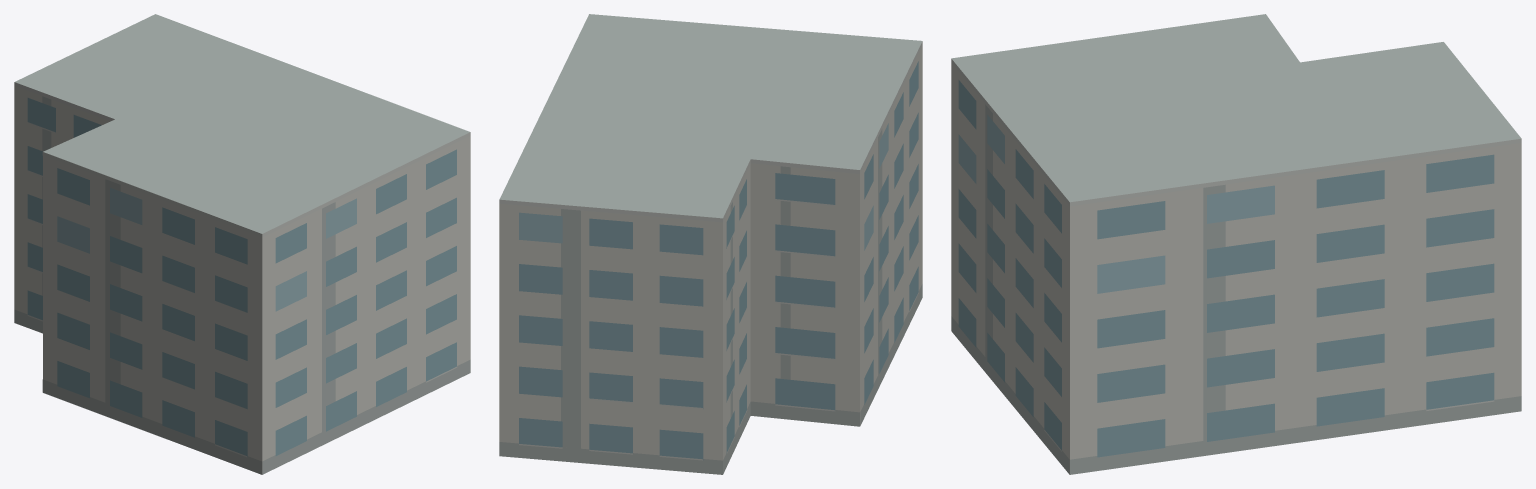
Rendered from residential-edab27d5-b1ec-4b5b-a345-5477279e3312.glb.
3 renders of one model, left to right at view 1: azimuth 30°, elevation 25°; view 2: azimuth 150°, elevation 25°; view 3: azimuth 270°, elevation 25°, orthographic. The views are drawn at different scales.
Visible parts, largest first — view 1: residential-edab27d5-b1ec-4b5b-a345-5477279e3312.tmp; view 2: residential-edab27d5-b1ec-4b5b-a345-5477279e3312.tmp; view 3: residential-edab27d5-b1ec-4b5b-a345-5477279e3312.tmp.
Boxes of the visible parts, x1=… form: residential-edab27d5-b1ec-4b5b-a345-5477279e3312.tmp: x1=14, y1=14, x2=470, y2=474; residential-edab27d5-b1ec-4b5b-a345-5477279e3312.tmp: x1=499, y1=14, x2=922, y2=474; residential-edab27d5-b1ec-4b5b-a345-5477279e3312.tmp: x1=951, y1=14, x2=1521, y2=474.
Bounding box in the file's own units: 22.6 × 15.25 × 28.93.
